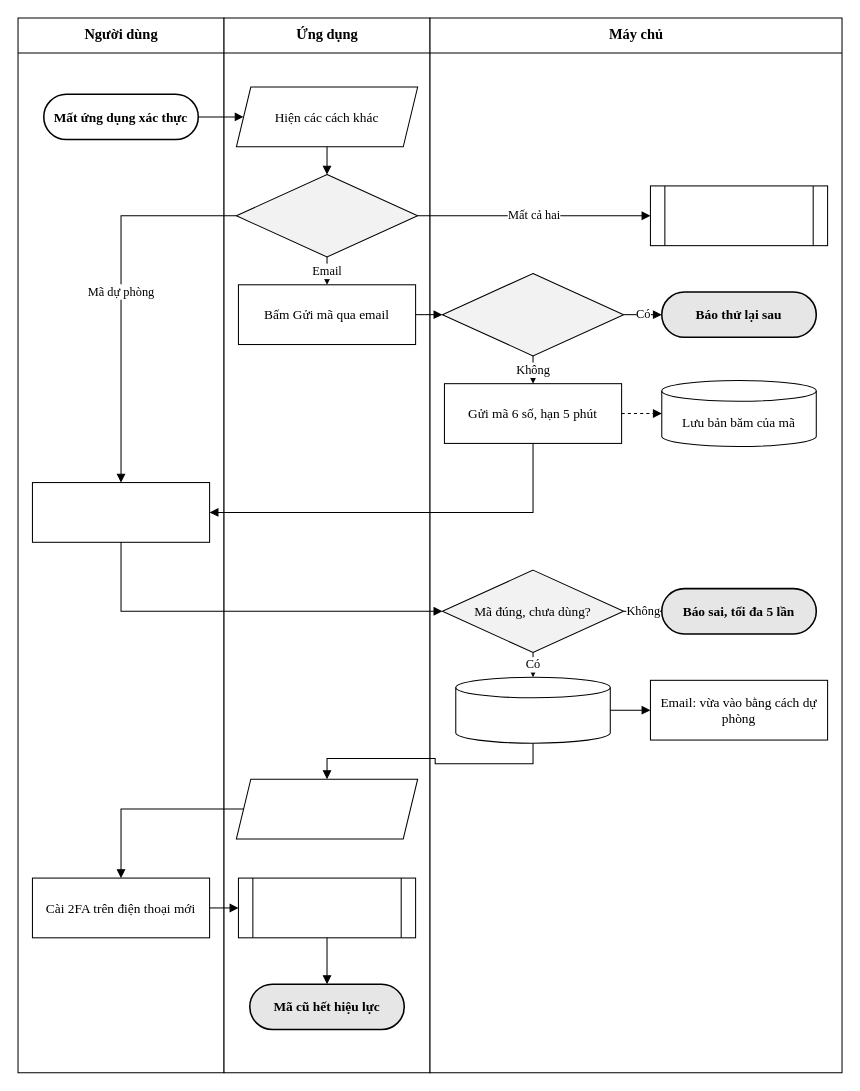
Some shapes in this 860 by 1091 pixel diagram are drawn without their labels. The centre of each missing label's shape, as x and y in pixels:
Bật 2FA với khóa mới: point 326,907
Chọn cách nào?: point 326,215
Khôi phục qua hỗ trợ (sơ đồ sau): point 738,215
Nhập mã dự phòng hoặc mã email: point 120,512
Quá 3 lần mỗi giờ?: point 532,314
Vào app, nhắc cài lại 2FA: point 326,808
Đánh dấu mã đã dùng, tạo phiên: point 532,709
